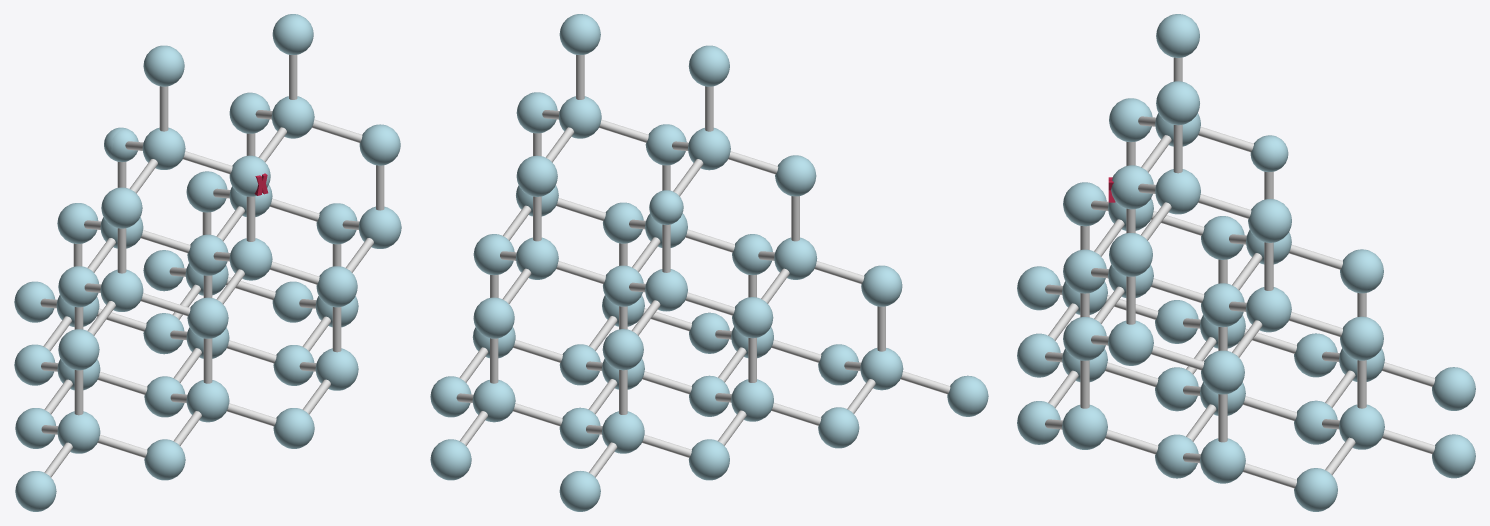
File: asset.glb
3 views of the same model, side by side, from view 1: azimuth 30°, elevation 25°; view 2: azimuth 150°, elevation 25°; view 3: azimuth 270°, elevation 25° (orthographic). The views are drawn at different scales.
Visible parts, largest first — view 1: 3DGeom-1, 3DGeom-2; view 2: 3DGeom-1, 3DGeom-2; view 3: 3DGeom-1, 3DGeom-2.
Part boxes in pixels (x1,y1,x2,y2): 3DGeom-1: [14, 14, 401, 511]; 3DGeom-2: [40, 54, 384, 477]; 3DGeom-1: [430, 14, 988, 511]; 3DGeom-2: [456, 54, 950, 477]; 3DGeom-1: [1017, 14, 1475, 511]; 3DGeom-2: [1045, 57, 1435, 488].
Size of the model in its own units: 2.84 by 2.36 by 2.5.
